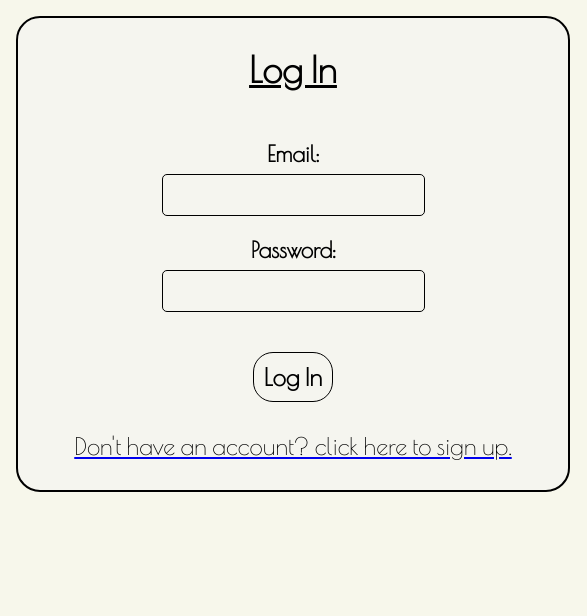
Test: Login › non-server errors › shows error when email is blank
Click the button with test id "log-in-button".
click(293, 377)  # box [253, 352, 333, 402]
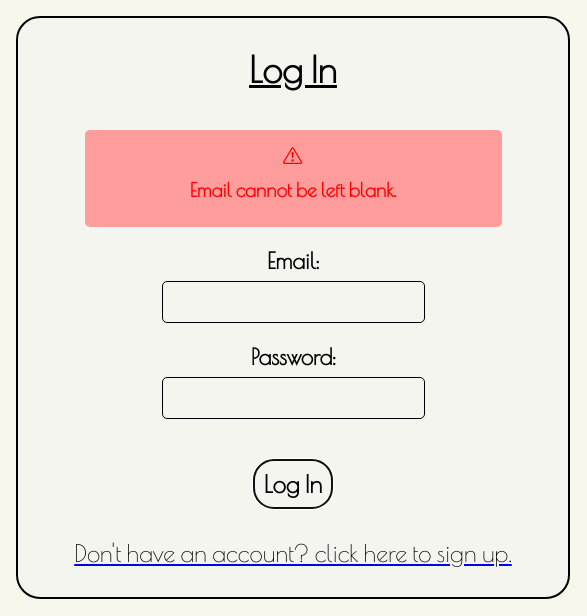
Now the text "Email cannot be left blank." is shown, box [190, 179, 396, 201]
